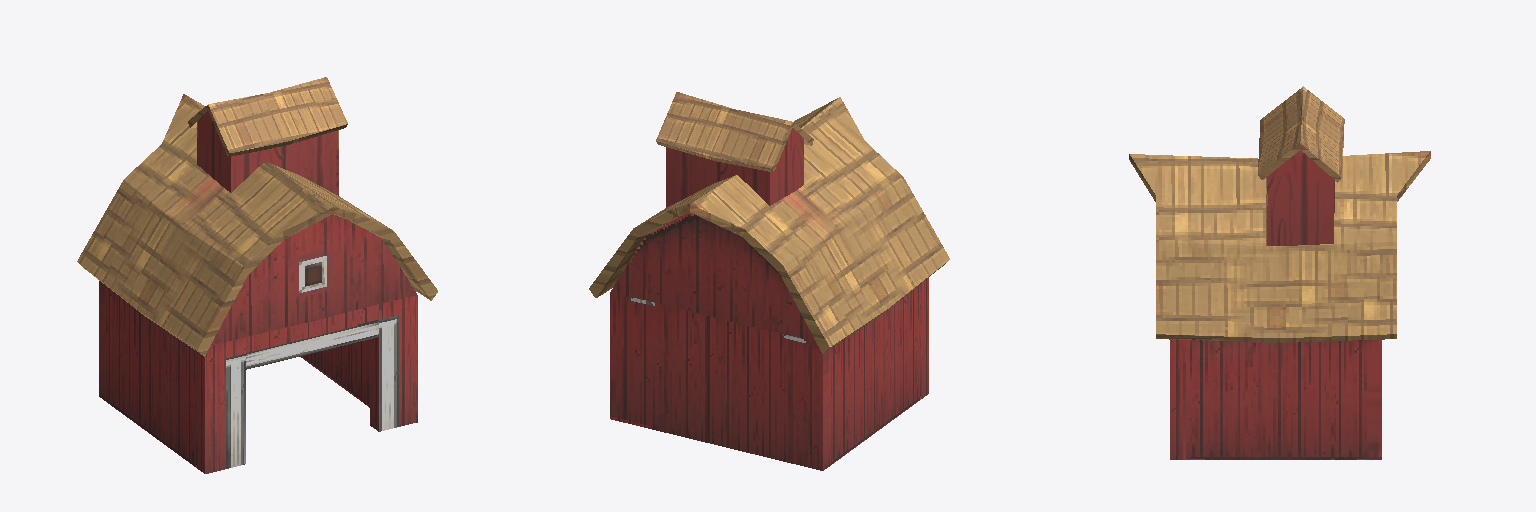
3 views of the same model, side by side, from view 1: azimuth 30°, elevation 25°; view 2: azimuth 150°, elevation 25°; view 3: azimuth 270°, elevation 25° (orthographic).
Parts seen in each view (by area): view 1: farm_barn_farm_barn_mesh.005_farm_barn_farm_barn_mesh.037, farm_barn_farm_barn_mesh.031_farm_barn_farm_barn_mesh.041, farm_barn_farm_barn_mesh.002_farm_barn_farm_barn_mesh.035, farm_barn_farm_barn_mesh.001_farm_barn_farm_barn_mesh.034, farm_barn_farm_barn_mesh.000_farm_barn_farm_barn_mesh.033, farm_barn_farm_barn_mesh.030_farm_barn_farm_barn_mesh.040, farm_barn_farm_barn_mesh.029_farm_barn_farm_barn_mesh.039; view 2: farm_barn_farm_barn_mesh.005_farm_barn_farm_barn_mesh.037, farm_barn_farm_barn_mesh.029_farm_barn_farm_barn_mesh.039, farm_barn_farm_barn_mesh.031_farm_barn_farm_barn_mesh.041, farm_barn_farm_barn_mesh.002_farm_barn_farm_barn_mesh.035; view 3: farm_barn_farm_barn_mesh.005_farm_barn_farm_barn_mesh.037, farm_barn_farm_barn_mesh.030_farm_barn_farm_barn_mesh.040, farm_barn_farm_barn_mesh.001_farm_barn_farm_barn_mesh.034, farm_barn_farm_barn_mesh.029_farm_barn_farm_barn_mesh.039.
Part boxes in pixels (left/top/right/bottom): farm_barn_farm_barn_mesh.005_farm_barn_farm_barn_mesh.037: left=77, top=77, right=437, bottom=356; farm_barn_farm_barn_mesh.031_farm_barn_farm_barn_mesh.041: left=105, top=285, right=196, bottom=467; farm_barn_farm_barn_mesh.002_farm_barn_farm_barn_mesh.035: left=197, top=337, right=245, bottom=473; farm_barn_farm_barn_mesh.001_farm_barn_farm_barn_mesh.034: left=370, top=295, right=417, bottom=431; farm_barn_farm_barn_mesh.000_farm_barn_farm_barn_mesh.033: left=246, top=304, right=378, bottom=369; farm_barn_farm_barn_mesh.030_farm_barn_farm_barn_mesh.040: left=300, top=340, right=369, bottom=407; farm_barn_farm_barn_mesh.029_farm_barn_farm_barn_mesh.039: left=99, top=281, right=104, bottom=400; farm_barn_farm_barn_mesh.005_farm_barn_farm_barn_mesh.037: left=589, top=92, right=949, bottom=353; farm_barn_farm_barn_mesh.029_farm_barn_farm_barn_mesh.039: left=610, top=292, right=828, bottom=470; farm_barn_farm_barn_mesh.031_farm_barn_farm_barn_mesh.041: left=829, top=284, right=920, bottom=466; farm_barn_farm_barn_mesh.002_farm_barn_farm_barn_mesh.035: left=921, top=278, right=928, bottom=398; farm_barn_farm_barn_mesh.005_farm_barn_farm_barn_mesh.037: left=1129, top=86, right=1430, bottom=342; farm_barn_farm_barn_mesh.030_farm_barn_farm_barn_mesh.040: left=1186, top=340, right=1368, bottom=459; farm_barn_farm_barn_mesh.001_farm_barn_farm_barn_mesh.034: left=1170, top=340, right=1185, bottom=459; farm_barn_farm_barn_mesh.029_farm_barn_farm_barn_mesh.039: left=1369, top=340, right=1381, bottom=459.
Size of the model in its own units: 4.69 by 5.64 by 5.07.
Materials: 2 (1 with a texture image).